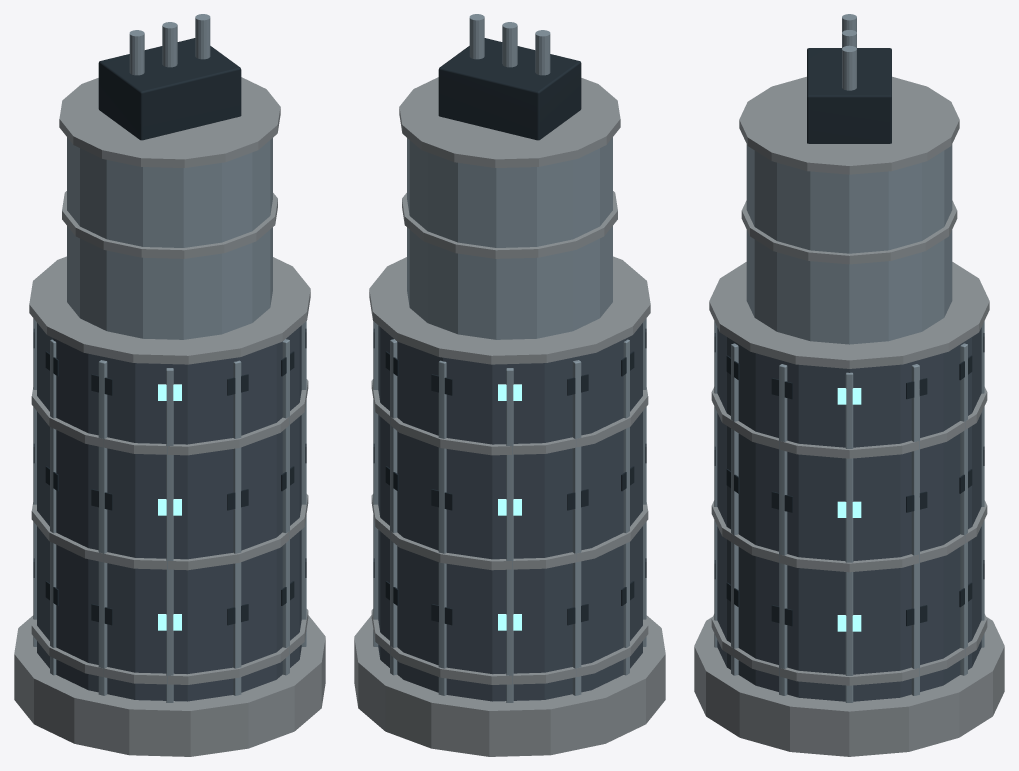
File: DrumTower.fbx
The picture shows the model from 3 angles, left to right: view 1: azimuth 30°, elevation 25°; view 2: azimuth 150°, elevation 25°; view 3: azimuth 270°, elevation 25°; orthographic projection.
Visible parts, largest first — view 1: DrumTower_Graphite, DrumTower_Concrete, DrumTower_Steel, DrumTower_Dark, DrumTower_Cyan; view 2: DrumTower_Graphite, DrumTower_Concrete, DrumTower_Steel, DrumTower_Dark, DrumTower_Cyan; view 3: DrumTower_Graphite, DrumTower_Concrete, DrumTower_Steel, DrumTower_Dark, DrumTower_Cyan.
Part boxes in pixels (bbox=[...]): DrumTower_Graphite: bbox=[37, 323, 301, 701]; DrumTower_Concrete: bbox=[14, 77, 325, 756]; DrumTower_Steel: bbox=[33, 14, 306, 702]; DrumTower_Dark: bbox=[33, 38, 306, 625]; DrumTower_Cyan: bbox=[158, 384, 181, 630]; DrumTower_Graphite: bbox=[378, 323, 642, 701]; DrumTower_Concrete: bbox=[354, 77, 665, 756]; DrumTower_Steel: bbox=[373, 14, 646, 702]; DrumTower_Dark: bbox=[373, 38, 646, 625]; DrumTower_Cyan: bbox=[498, 384, 521, 630]; DrumTower_Graphite: bbox=[717, 327, 981, 701]; DrumTower_Concrete: bbox=[694, 76, 1004, 756]; DrumTower_Steel: bbox=[714, 14, 984, 702]; DrumTower_Dark: bbox=[714, 48, 984, 626]; DrumTower_Cyan: bbox=[837, 388, 861, 631].
Bounding box in the file's own units: 1240 × 2900 × 1240.
